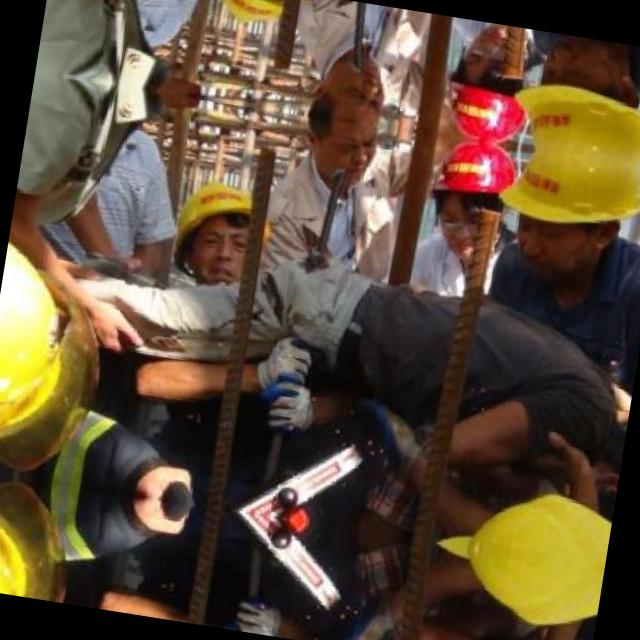helmet: (485, 143, 640, 300), (504, 28, 640, 169), (160, 160, 270, 290), (428, 136, 524, 232), (442, 49, 538, 144), (296, 112, 390, 190), (306, 48, 400, 126), (199, 0, 300, 43)
